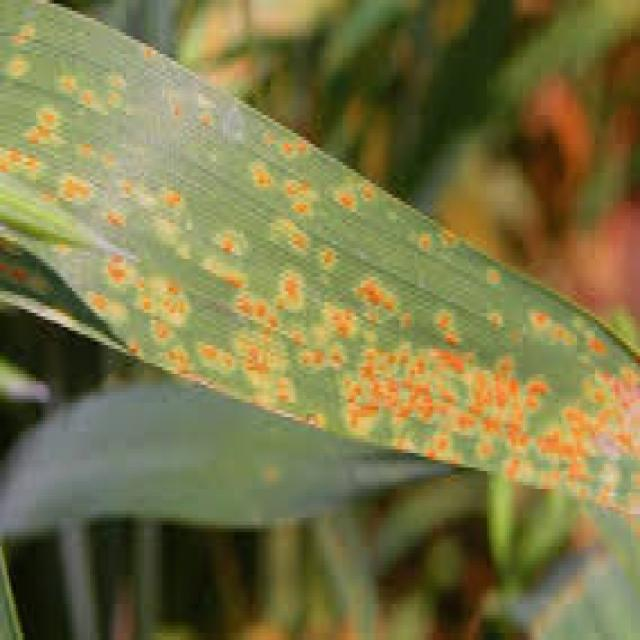leaf rust: (7, 22, 640, 540)
